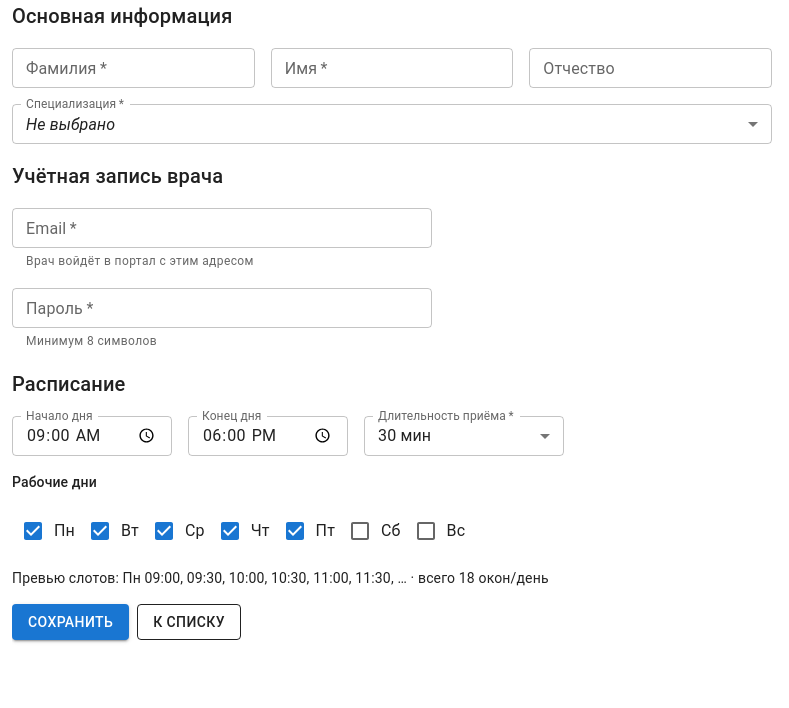
DoctorForm (3.2: форма врача) › пустая форма: ошибки на полях (в т.ч. email/пароль — правило «всегда»), запрос не уходит
This screenshot has width=789, height=708.
Click the button "Сохранить". click: click(71, 622)
box: [12,604,129,640]
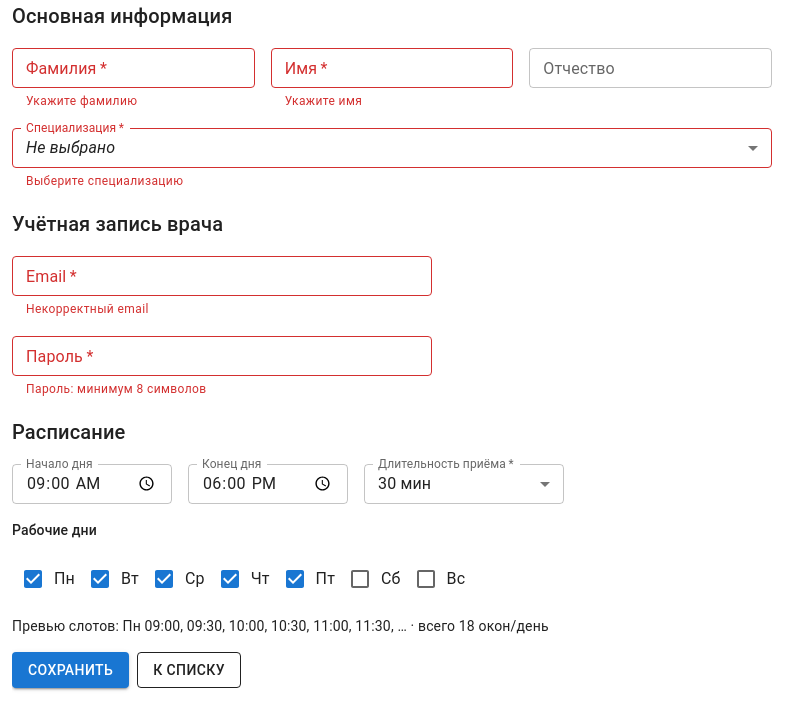
Now the text "Укажите фамилию" is shown, box [26,94,138,108]
Now the text "Укажите имя" is shown, box [285,94,362,108]
Now the text "Выберите специализацию" is shown, box [26,174,183,188]
